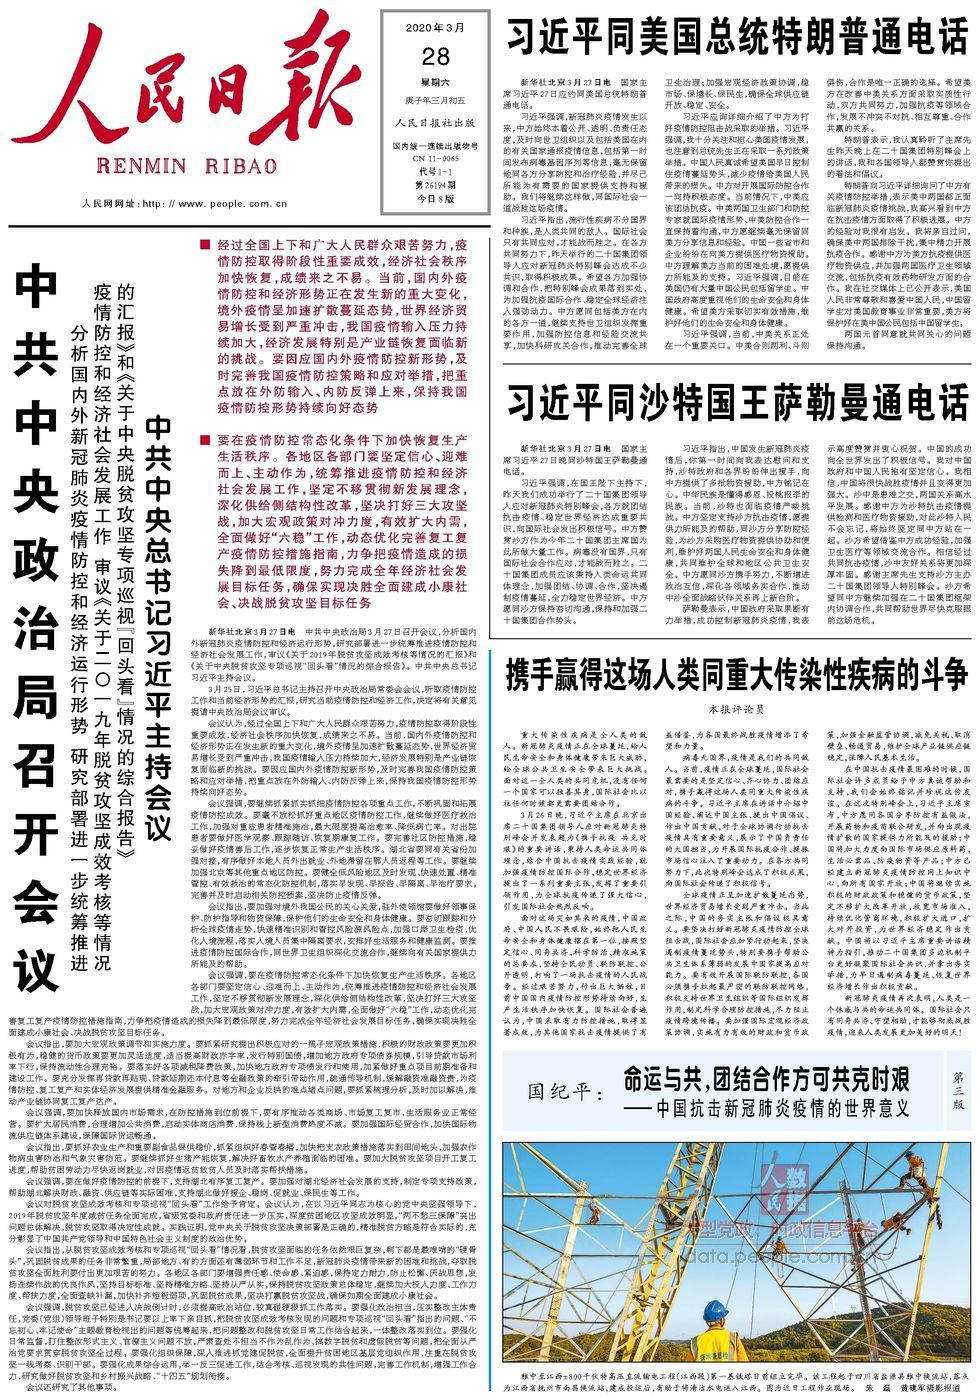pic: (499, 1138, 978, 1369)
